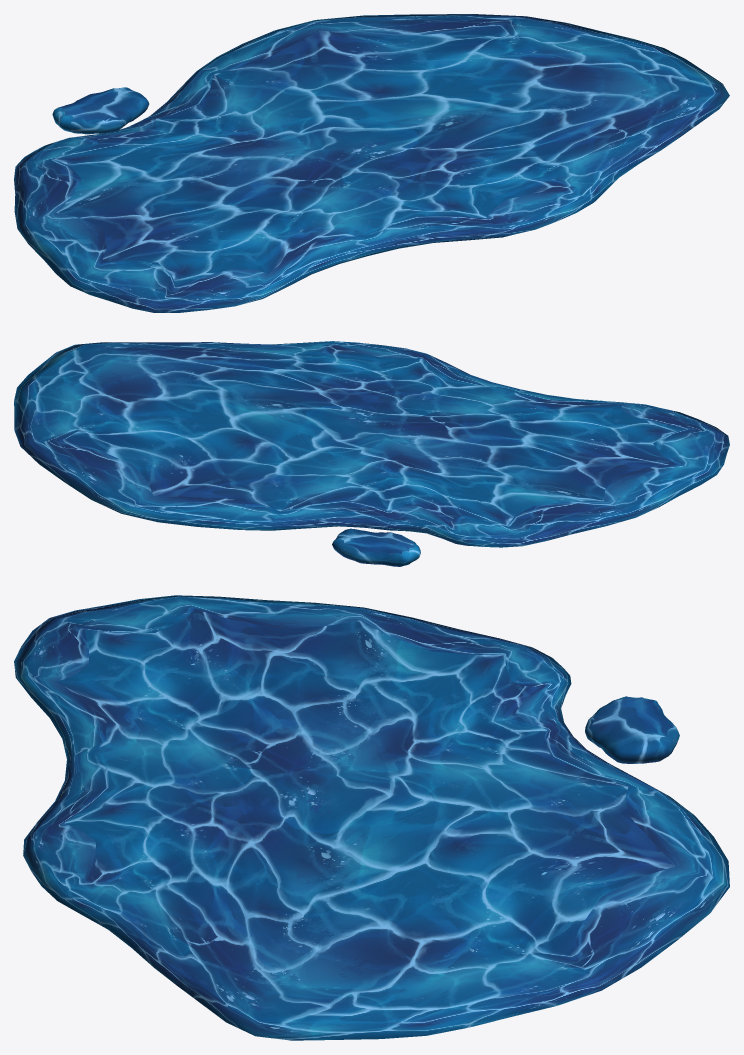
The model's file is POÇA.fbx.
3 views of the same model, one above another, from view 1: azimuth 30°, elevation 25°; view 2: azimuth 150°, elevation 25°; view 3: azimuth 270°, elevation 25° (orthographic). The views are drawn at different scales.
Parts seen in each view (by area): view 1: Cube.001; view 2: Cube.001; view 3: Cube.001.
Part boxes in pixels (x1,y1,x2,y2): Cube.001: [14, 14, 729, 312]; Cube.001: [14, 341, 729, 566]; Cube.001: [14, 595, 729, 1040].
Size of the model in its own units: 1231 by 52.43 by 836.
1 material, 1 textured.
